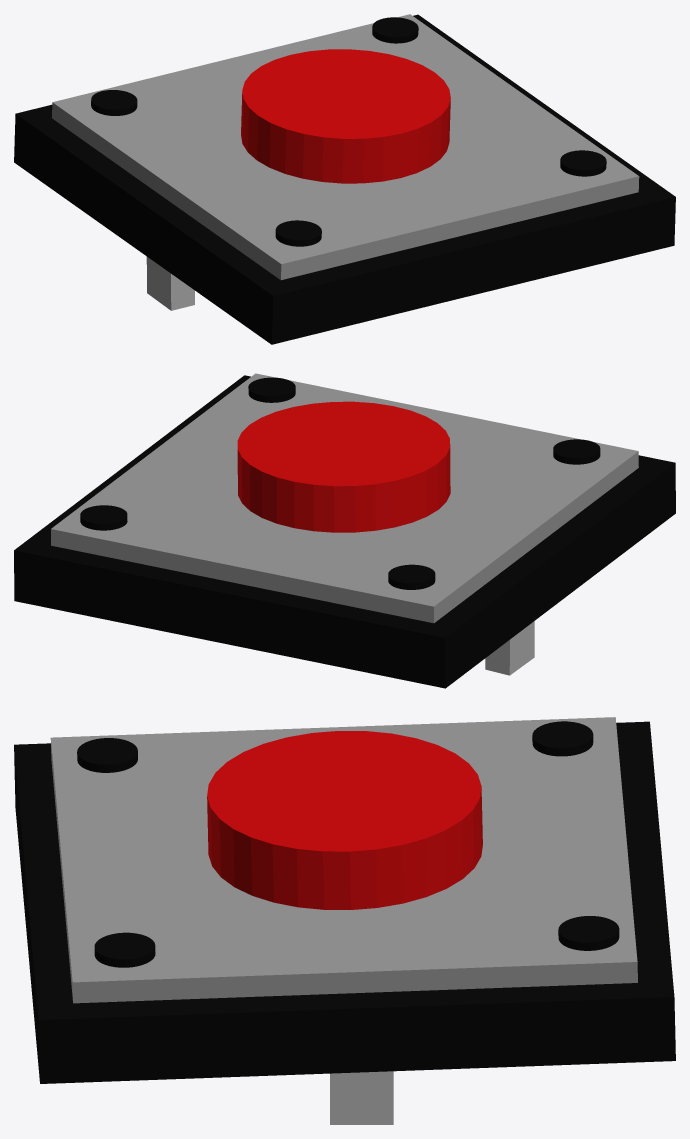
File: Pushbutton.fbx
The picture shows the model from 3 angles, top to bottom: view 1: azimuth 30°, elevation 25°; view 2: azimuth 150°, elevation 25°; view 3: azimuth 270°, elevation 25°; orthographic projection. The views are drawn at different scales.
Parts seen in each view (by area): view 1: Cube.005, Cube.006, Cylinder, Cube.008, Cylinder.003, Cylinder.002, Cylinder.004, Cylinder.001; view 2: Cube.005, Cube.006, Cylinder, Cube.008, Cylinder.004, Cylinder.003, Cylinder.002, Cylinder.001; view 3: Cube.005, Cube.006, Cylinder, Cube.007, Cylinder.001, Cylinder.003, Cylinder.004, Cylinder.002.
Boxes of the visible parts, x1,y1,x2,y2 form: Cube.005: (52, 14, 639, 280); Cube.006: (14, 14, 675, 344); Cylinder: (241, 49, 450, 183); Cube.008: (146, 256, 194, 310); Cylinder.003: (560, 150, 606, 176); Cylinder.002: (275, 220, 321, 246); Cylinder.004: (372, 17, 418, 43); Cylinder.001: (91, 90, 137, 115); Cube.005: (51, 373, 638, 623); Cube.006: (14, 375, 675, 688); Cylinder: (237, 401, 450, 532); Cube.008: (485, 621, 534, 675); Cylinder.004: (80, 505, 127, 530); Cylinder.003: (248, 377, 295, 402); Cylinder.002: (553, 439, 600, 464); Cylinder.001: (388, 564, 435, 589); Cube.005: (50, 717, 637, 1003); Cube.006: (14, 721, 675, 1083); Cylinder: (207, 731, 482, 909); Cube.007: (330, 1071, 393, 1124); Cylinder.001: (532, 721, 593, 756); Cylinder.003: (94, 932, 155, 967); Cylinder.004: (558, 916, 619, 950); Cylinder.002: (77, 738, 137, 772).
Bounding box in the file's own units: 64.22 × 24.5 × 65.15.
